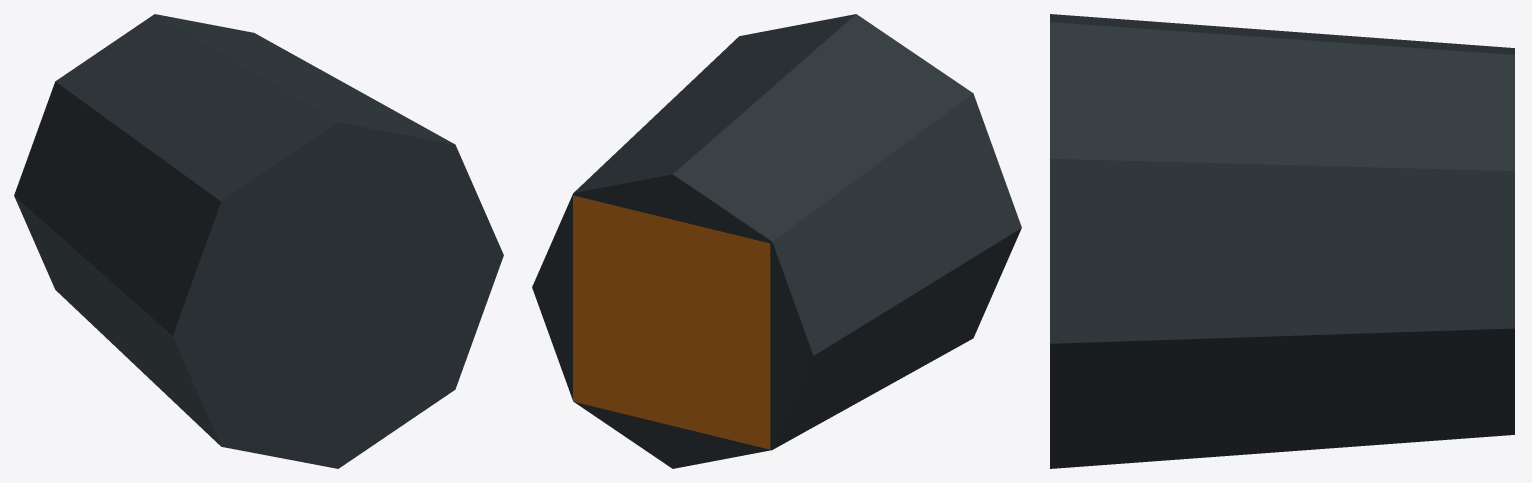
3 renders of one model, left to right at view 1: azimuth 30°, elevation 25°; view 2: azimuth 150°, elevation 25°; view 3: azimuth 270°, elevation 25°, orthographic. The views are drawn at different scales.
Visible parts, largest first — view 1: mount; view 2: mount; view 3: mount.
Boxes of the visible parts, x1,y1,x2,y2 form: mount: (14, 14, 503, 468); mount: (532, 14, 1021, 468); mount: (1050, 14, 1514, 468).
Bounding box in the file's own units: 5 × 5 × 4.83.
